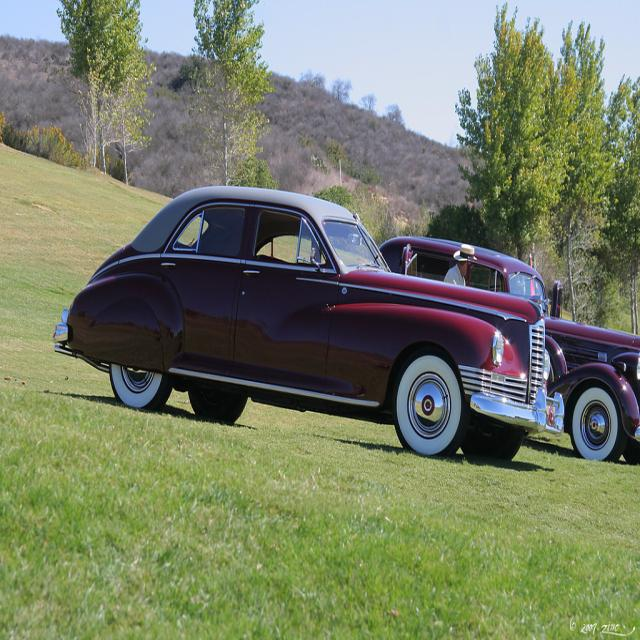car: (51, 181, 568, 458)
